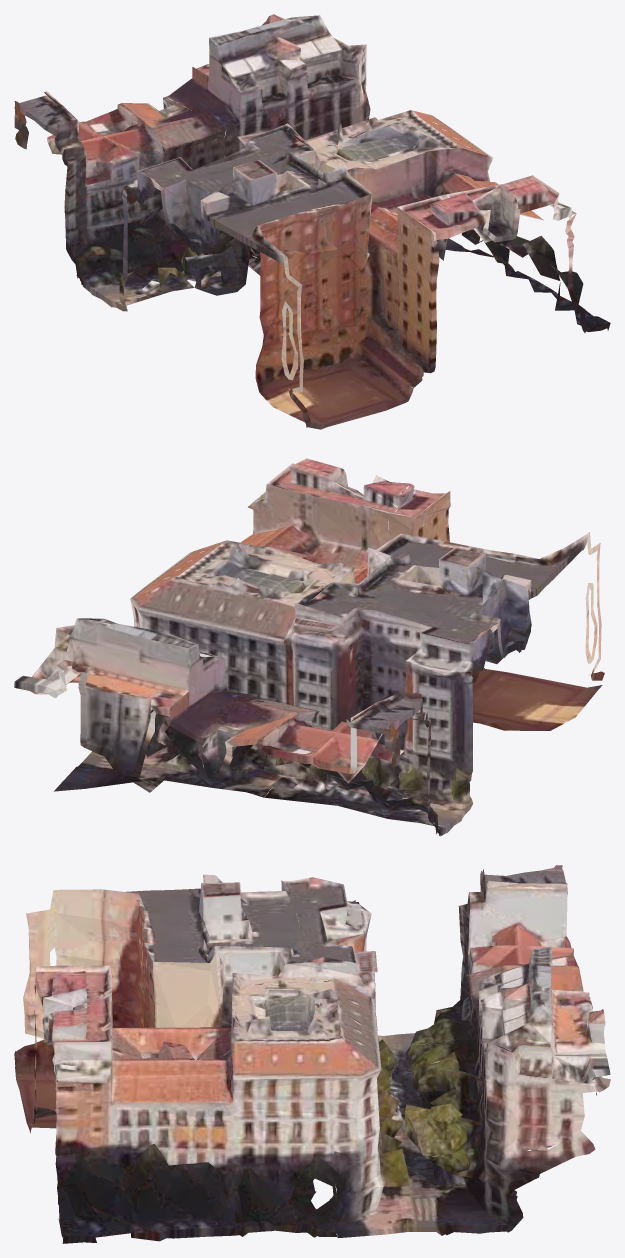
3 views of the same model, one above another, from view 1: azimuth 30°, elevation 25°; view 2: azimuth 150°, elevation 25°; view 3: azimuth 270°, elevation 25° (orthographic). The views are drawn at different scales.
Parts seen in each view (by area): view 1: Mesh_0; view 2: Mesh_0; view 3: Mesh_0.
Part boxes in pixels (x1,y1,x2,y2): Mesh_0: (14, 14, 610, 429); Mesh_0: (14, 458, 604, 836); Mesh_0: (14, 865, 610, 1243).
Size of the model in its own units: 66.59 by 32.16 by 82.66.
Materials: 1 (1 with a texture image).
